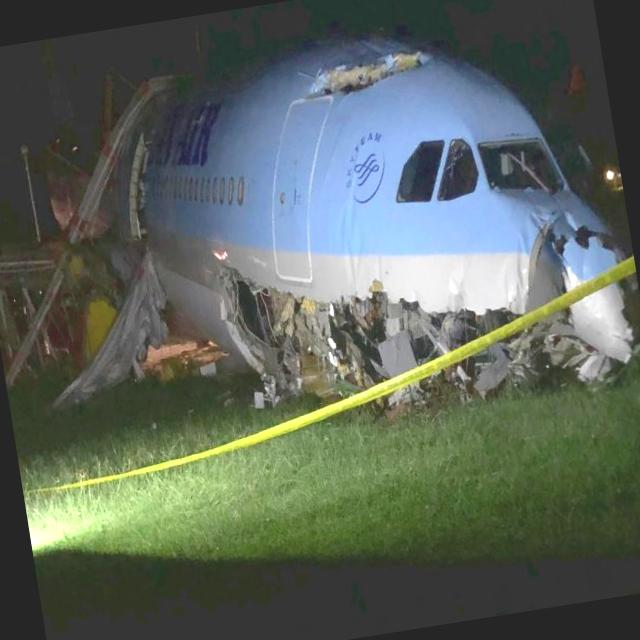crack: (303, 45, 431, 107)
